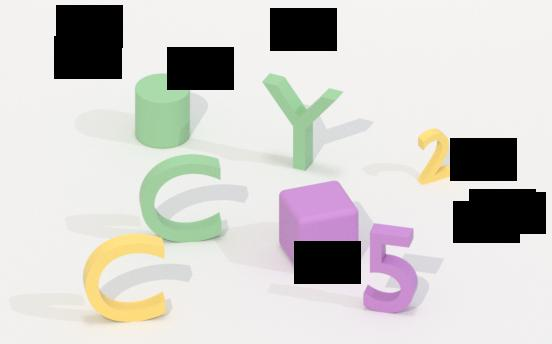2: (416, 127, 456, 189)
5: (360, 221, 419, 316)
Y-hoa: (257, 65, 347, 178)
c: (79, 231, 170, 325), (136, 149, 224, 246)
hop: (274, 180, 363, 272)
tru: (131, 70, 193, 150)
